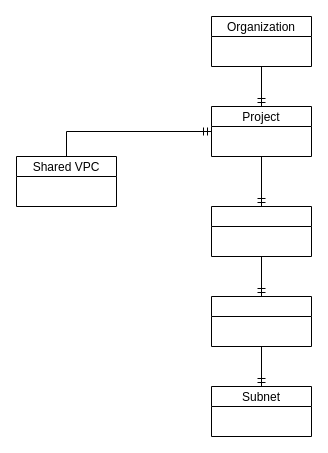
The diagram is 328 pixels wide and 453 high, and some of its shapes have lost their labels. The shapes that lost their labels are listed below. From the top down, each one's centre as x and y in pixels, then its label:
At (261,231): "VPC".
At (261,321): "Region".
